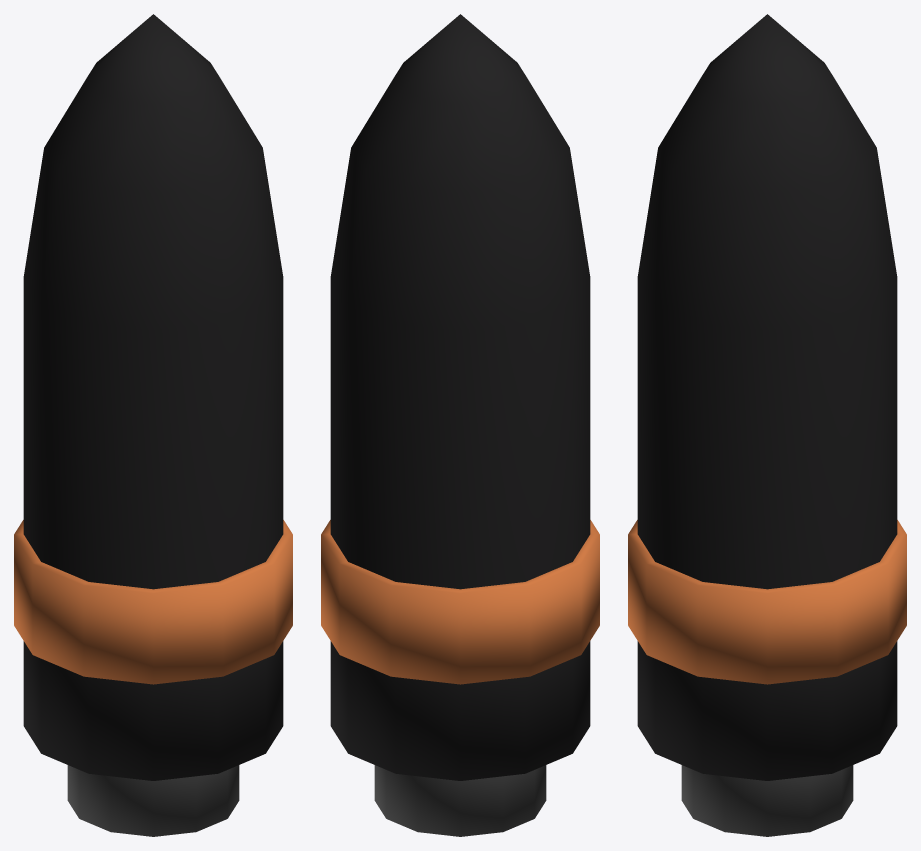
File: apc.glb
3 views of the same model, side by side, from view 1: azimuth 30°, elevation 25°; view 2: azimuth 150°, elevation 25°; view 3: azimuth 270°, elevation 25° (orthographic).
Visible parts, largest first — view 1: shell; view 2: shell; view 3: shell.
Part boxes in pixels (x1,y1,x2,y2): shell: [14, 14, 292, 836]; shell: [321, 14, 599, 836]; shell: [628, 14, 906, 836].
Size of the model in its own units: 0.0385 by 0.1199 by 0.0385.
